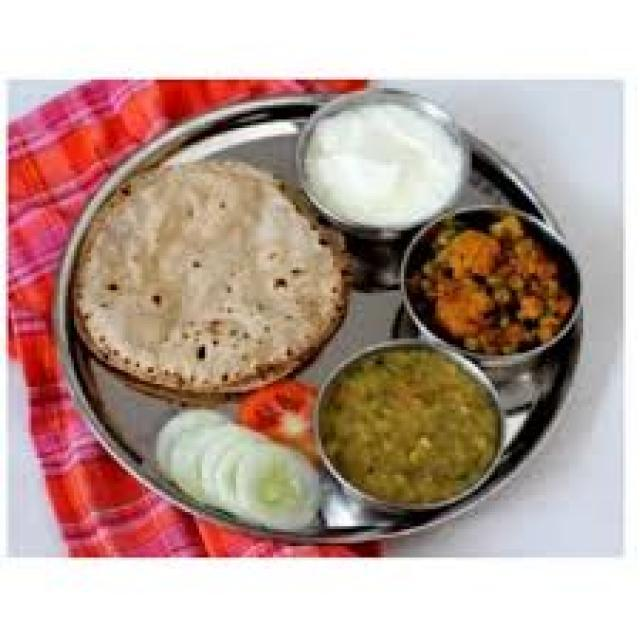curd: (291, 91, 468, 238)
dal: (319, 347, 502, 504)
roti: (80, 170, 358, 399)
